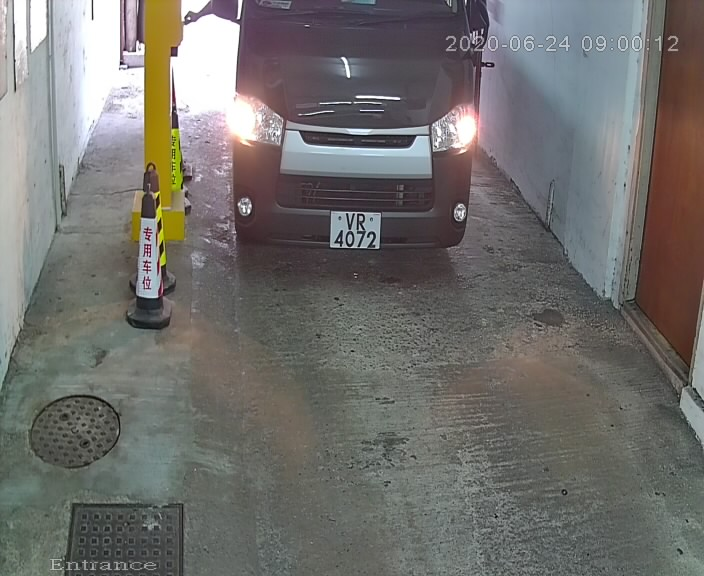privatecar: (216, 1, 502, 273)
